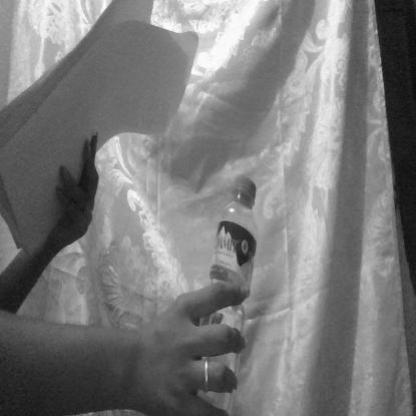Plastic Bottle: (184, 127, 272, 416)
